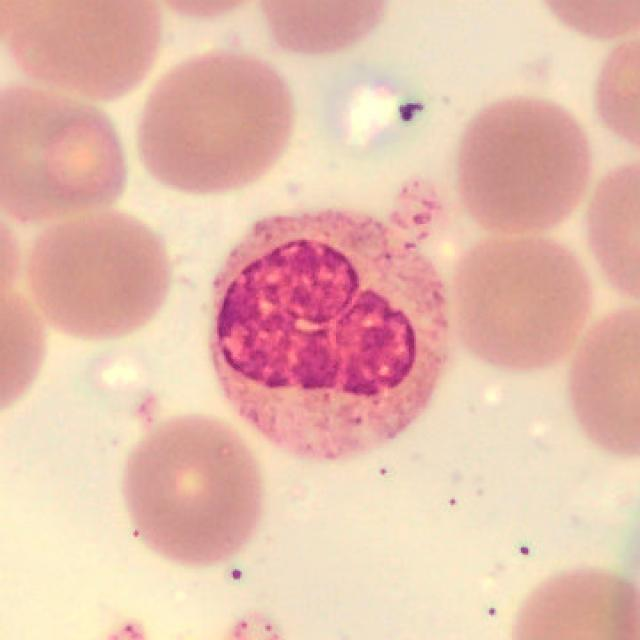Bastonete: (210, 210, 448, 462)
